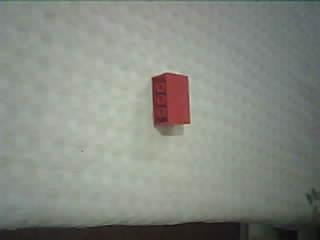lego: (151, 71, 191, 128)
